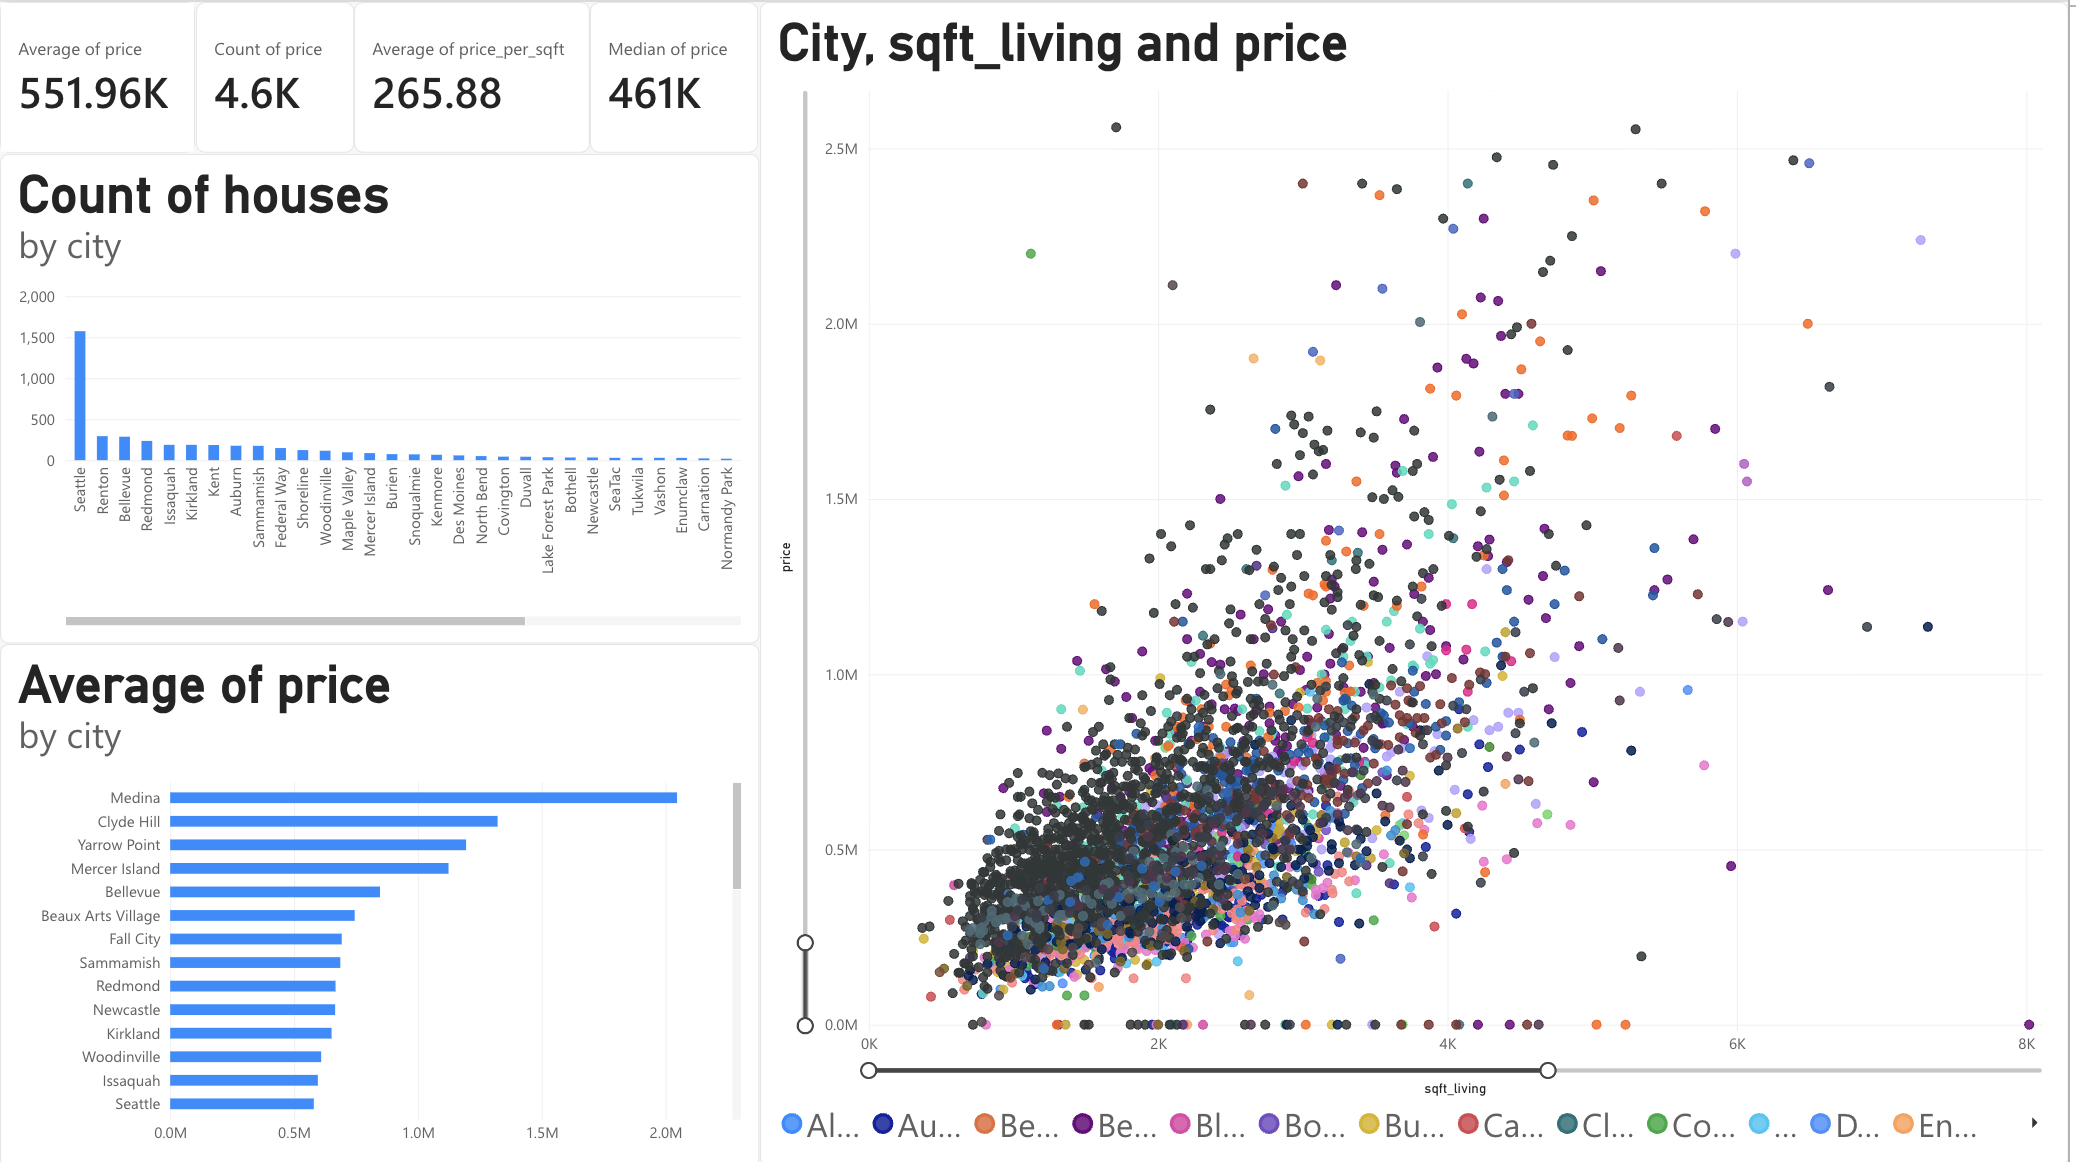

The dashboard page shown, as its layout file describes it:
{"tool":"powerbi","page":{"name":"Summary","canvas":[1920,1080],"ordinal":0},"visuals":[{"type":"cardVisual","fields":{"Data":["Avg(modified_data.price)"]},"box":[0,0,181.3,141],"z":0},{"type":"cardVisual","fields":{"Data":["Median(modified_data.price)"]},"box":[548.3,0,156.6,141],"z":1},{"type":"cardVisual","fields":{"Data":["Avg(modified_data.price_per_sqft)"]},"box":[329,0,219.3,141],"z":4},{"type":"cardVisual","fields":{"Data":["CountNonNull(modified_data.price)"]},"box":[181.3,0,147.7,141],"z":5},{"type":"clusteredBarChart","fields":{"Category":["modified_data.city"],"Y":["Avg(modified_data.price)"]},"box":[0,595.2,704.9,485.6],"z":6},{"type":"clusteredColumnChart","title":"Count of houses","fields":{"Category":["modified_data.city"],"Y":["CountNonNull(modified_data.city)"]},"box":[0,141,704.9,454.3],"z":7},{"type":"scatterChart","title":"City, sqft_living and price","fields":{"Series":["modified_data.city"],"X":["modified_data.sqft_living"],"Y":["modified_data.price"]},"box":[704.9,0,1215.1,1080.8],"z":8}]}

Visuals, with their boxes in screenshot pixels (x1, y1, x2, y2), scaled from the page's 1920x1080 canvas onto the 2076x1162 screenshot:
cardVisual - Avg(modified_data.price): rect(0, 0, 196, 152)
cardVisual - Median(modified_data.price): rect(593, 0, 762, 152)
cardVisual - Avg(modified_data.price_per_sqft): rect(356, 0, 593, 152)
cardVisual - CountNonNull(modified_data.price): rect(196, 0, 356, 152)
clusteredBarChart - modified_data.city x Avg(modified_data.price): rect(0, 640, 762, 1161)
"Count of houses" clusteredColumnChart: rect(0, 152, 762, 640)
"City, sqft_living and price" scatterChart: rect(762, 0, 2075, 1161)
